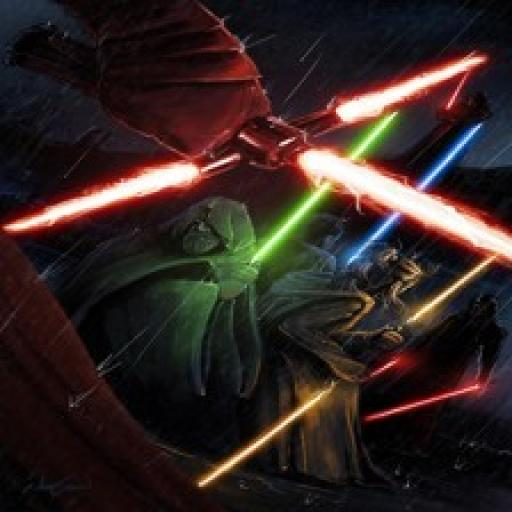lightsaber: (198, 247, 503, 488), (244, 110, 400, 268), (344, 124, 483, 269), (445, 50, 477, 110)
sith saber: (239, 115, 512, 257), (6, 137, 237, 229), (285, 58, 486, 137)
